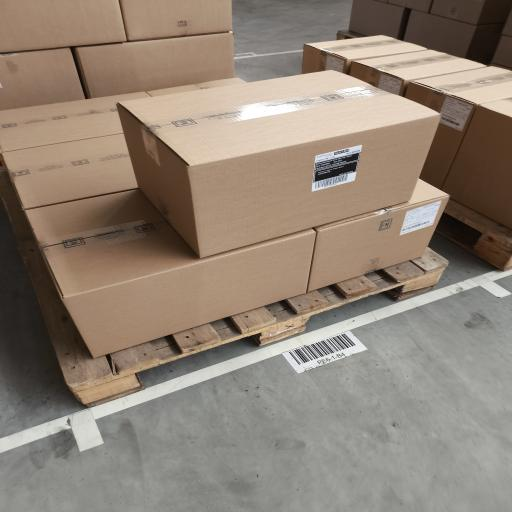pallet: (0, 172, 447, 405), (437, 200, 511, 270), (337, 30, 364, 40)
